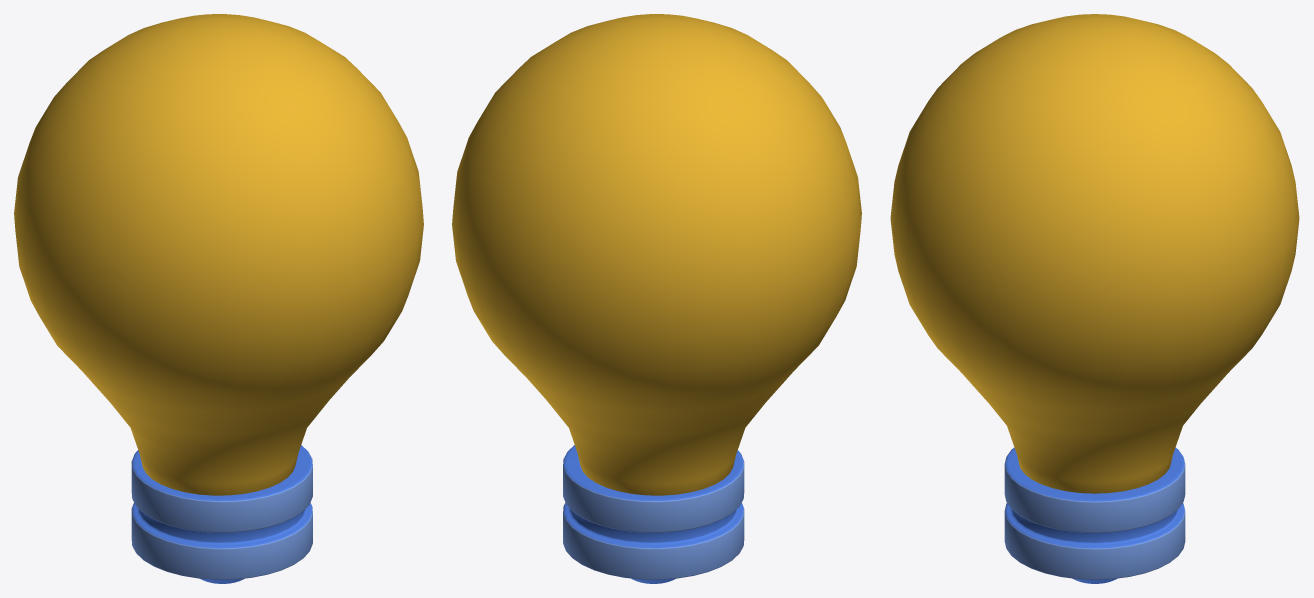
The model's file is science1.fbx.
3 views of the same model, side by side, from view 1: azimuth 30°, elevation 25°; view 2: azimuth 150°, elevation 25°; view 3: azimuth 270°, elevation 25° (orthographic).
Visible parts, largest first — view 1: Cylinder.002; view 2: Cylinder.002; view 3: Cylinder.002.
Boxes of the visible parts, bbox=[...] form: Cylinder.002: bbox=[14, 14, 423, 583]; Cylinder.002: bbox=[452, 14, 861, 583]; Cylinder.002: bbox=[890, 14, 1299, 583].
Size of the model in its own units: 140 by 204 by 140.
